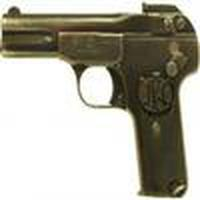gun: (2, 4, 197, 200)
